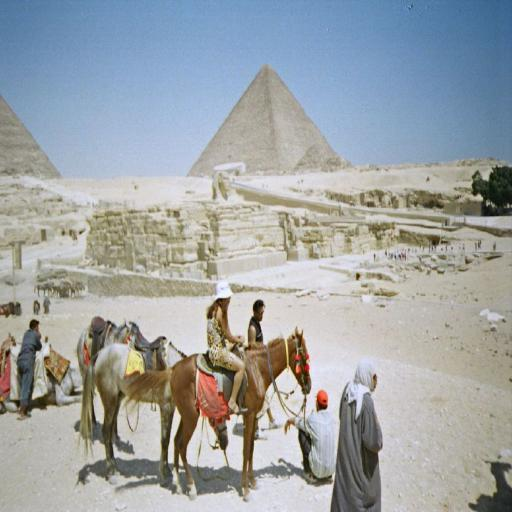horse: (125, 327, 312, 501), (78, 342, 228, 487), (72, 322, 152, 428)
